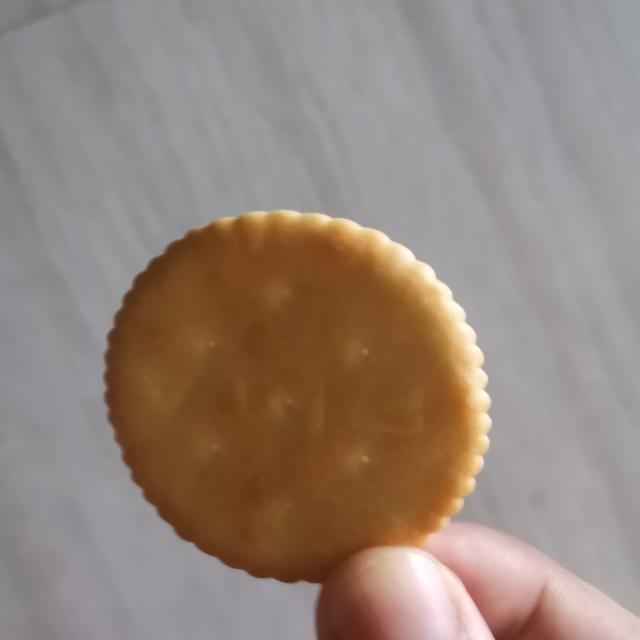Intact: (96, 201, 496, 588)
